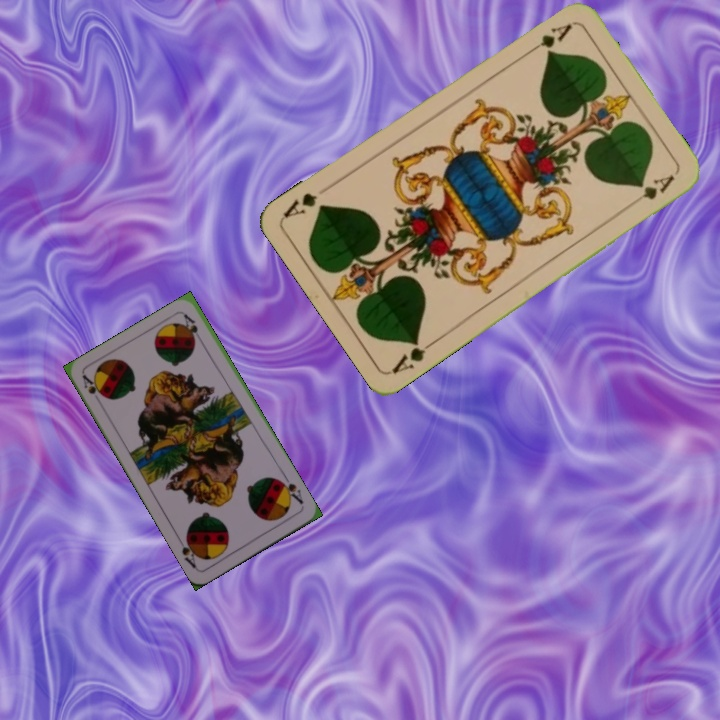GA: (388, 335, 440, 376), (522, 19, 575, 58)
SA: (274, 471, 306, 507), (78, 371, 108, 402)
